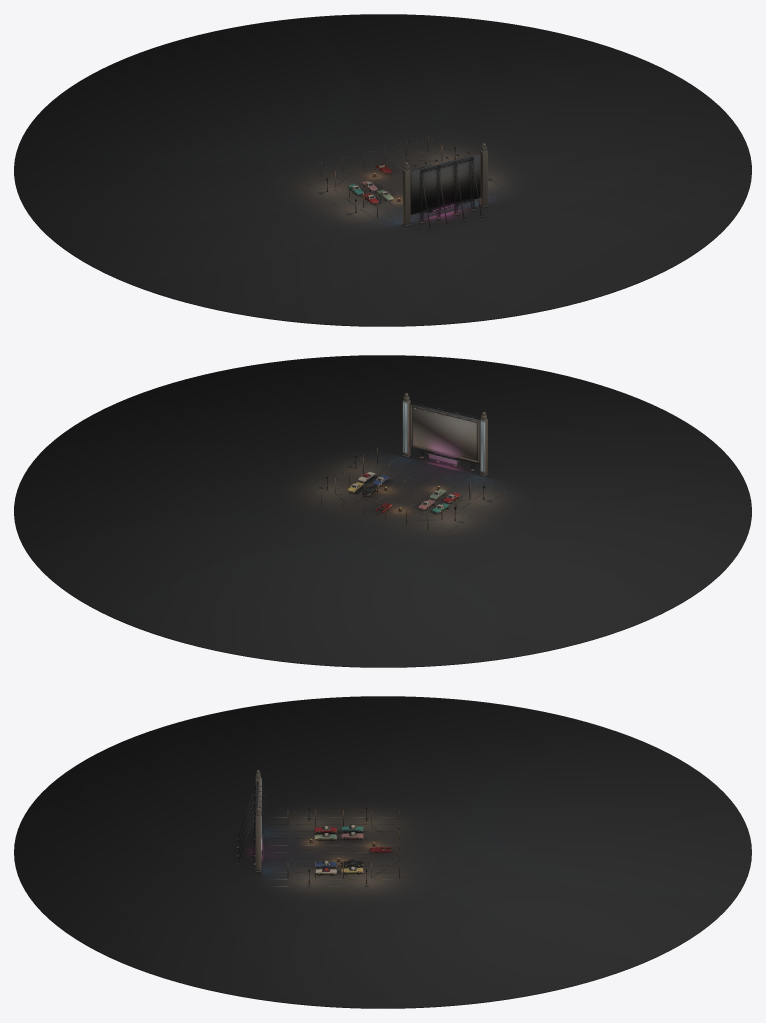
Rendered from drivein.glb.
3 renders of one model, top to bottom at view 1: azimuth 30°, elevation 25°; view 2: azimuth 150°, elevation 25°; view 3: azimuth 270°, elevation 25°, orthographic.
Visible parts, largest first — view 1: drivein; view 2: drivein, drivein_cars; view 3: drivein, drivein_cars.
Part boxes in pixels (x1=…): drivein: x1=14, y1=14, x2=751, y2=326; drivein: x1=14, y1=355, x2=751, y2=667; drivein_cars: x1=347, y1=471, x2=461, y2=513; drivein: x1=14, y1=696, x2=751, y2=1008; drivein_cars: x1=314, y1=825, x2=363, y2=875.
Size of the model in its own units: 180 by 16.96 by 180.
4 materials, 4 textured.
